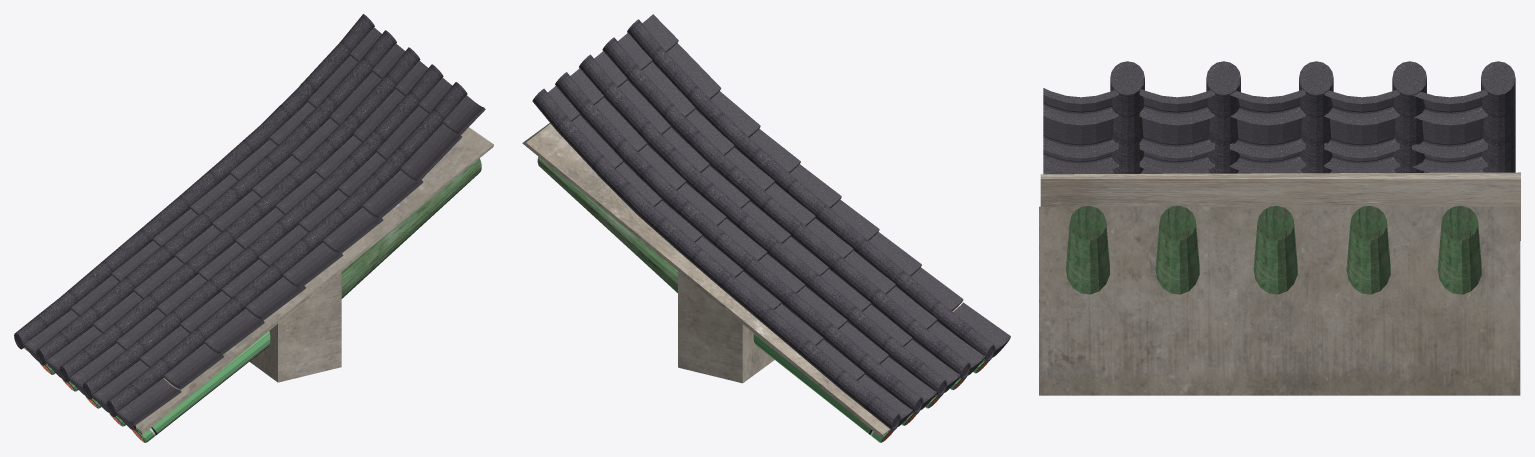
Rendered from SM_Roof_36.fbx.
3 renders of one model, left to right at view 1: azimuth 30°, elevation 25°; view 2: azimuth 150°, elevation 25°; view 3: azimuth 270°, elevation 25°, orthographic. The views are drawn at different scales.
Parts seen in each view (by area): view 1: SM_Roof_36; view 2: SM_Roof_36; view 3: SM_Roof_36.
Boxes of the visible parts, x1,y1,x2,y2 form: SM_Roof_36: [14, 14, 493, 442]; SM_Roof_36: [522, 14, 1010, 442]; SM_Roof_36: [1039, 61, 1520, 395].
Size of the model in its own units: 366 by 211 by 264.
5 materials, 5 textured.
